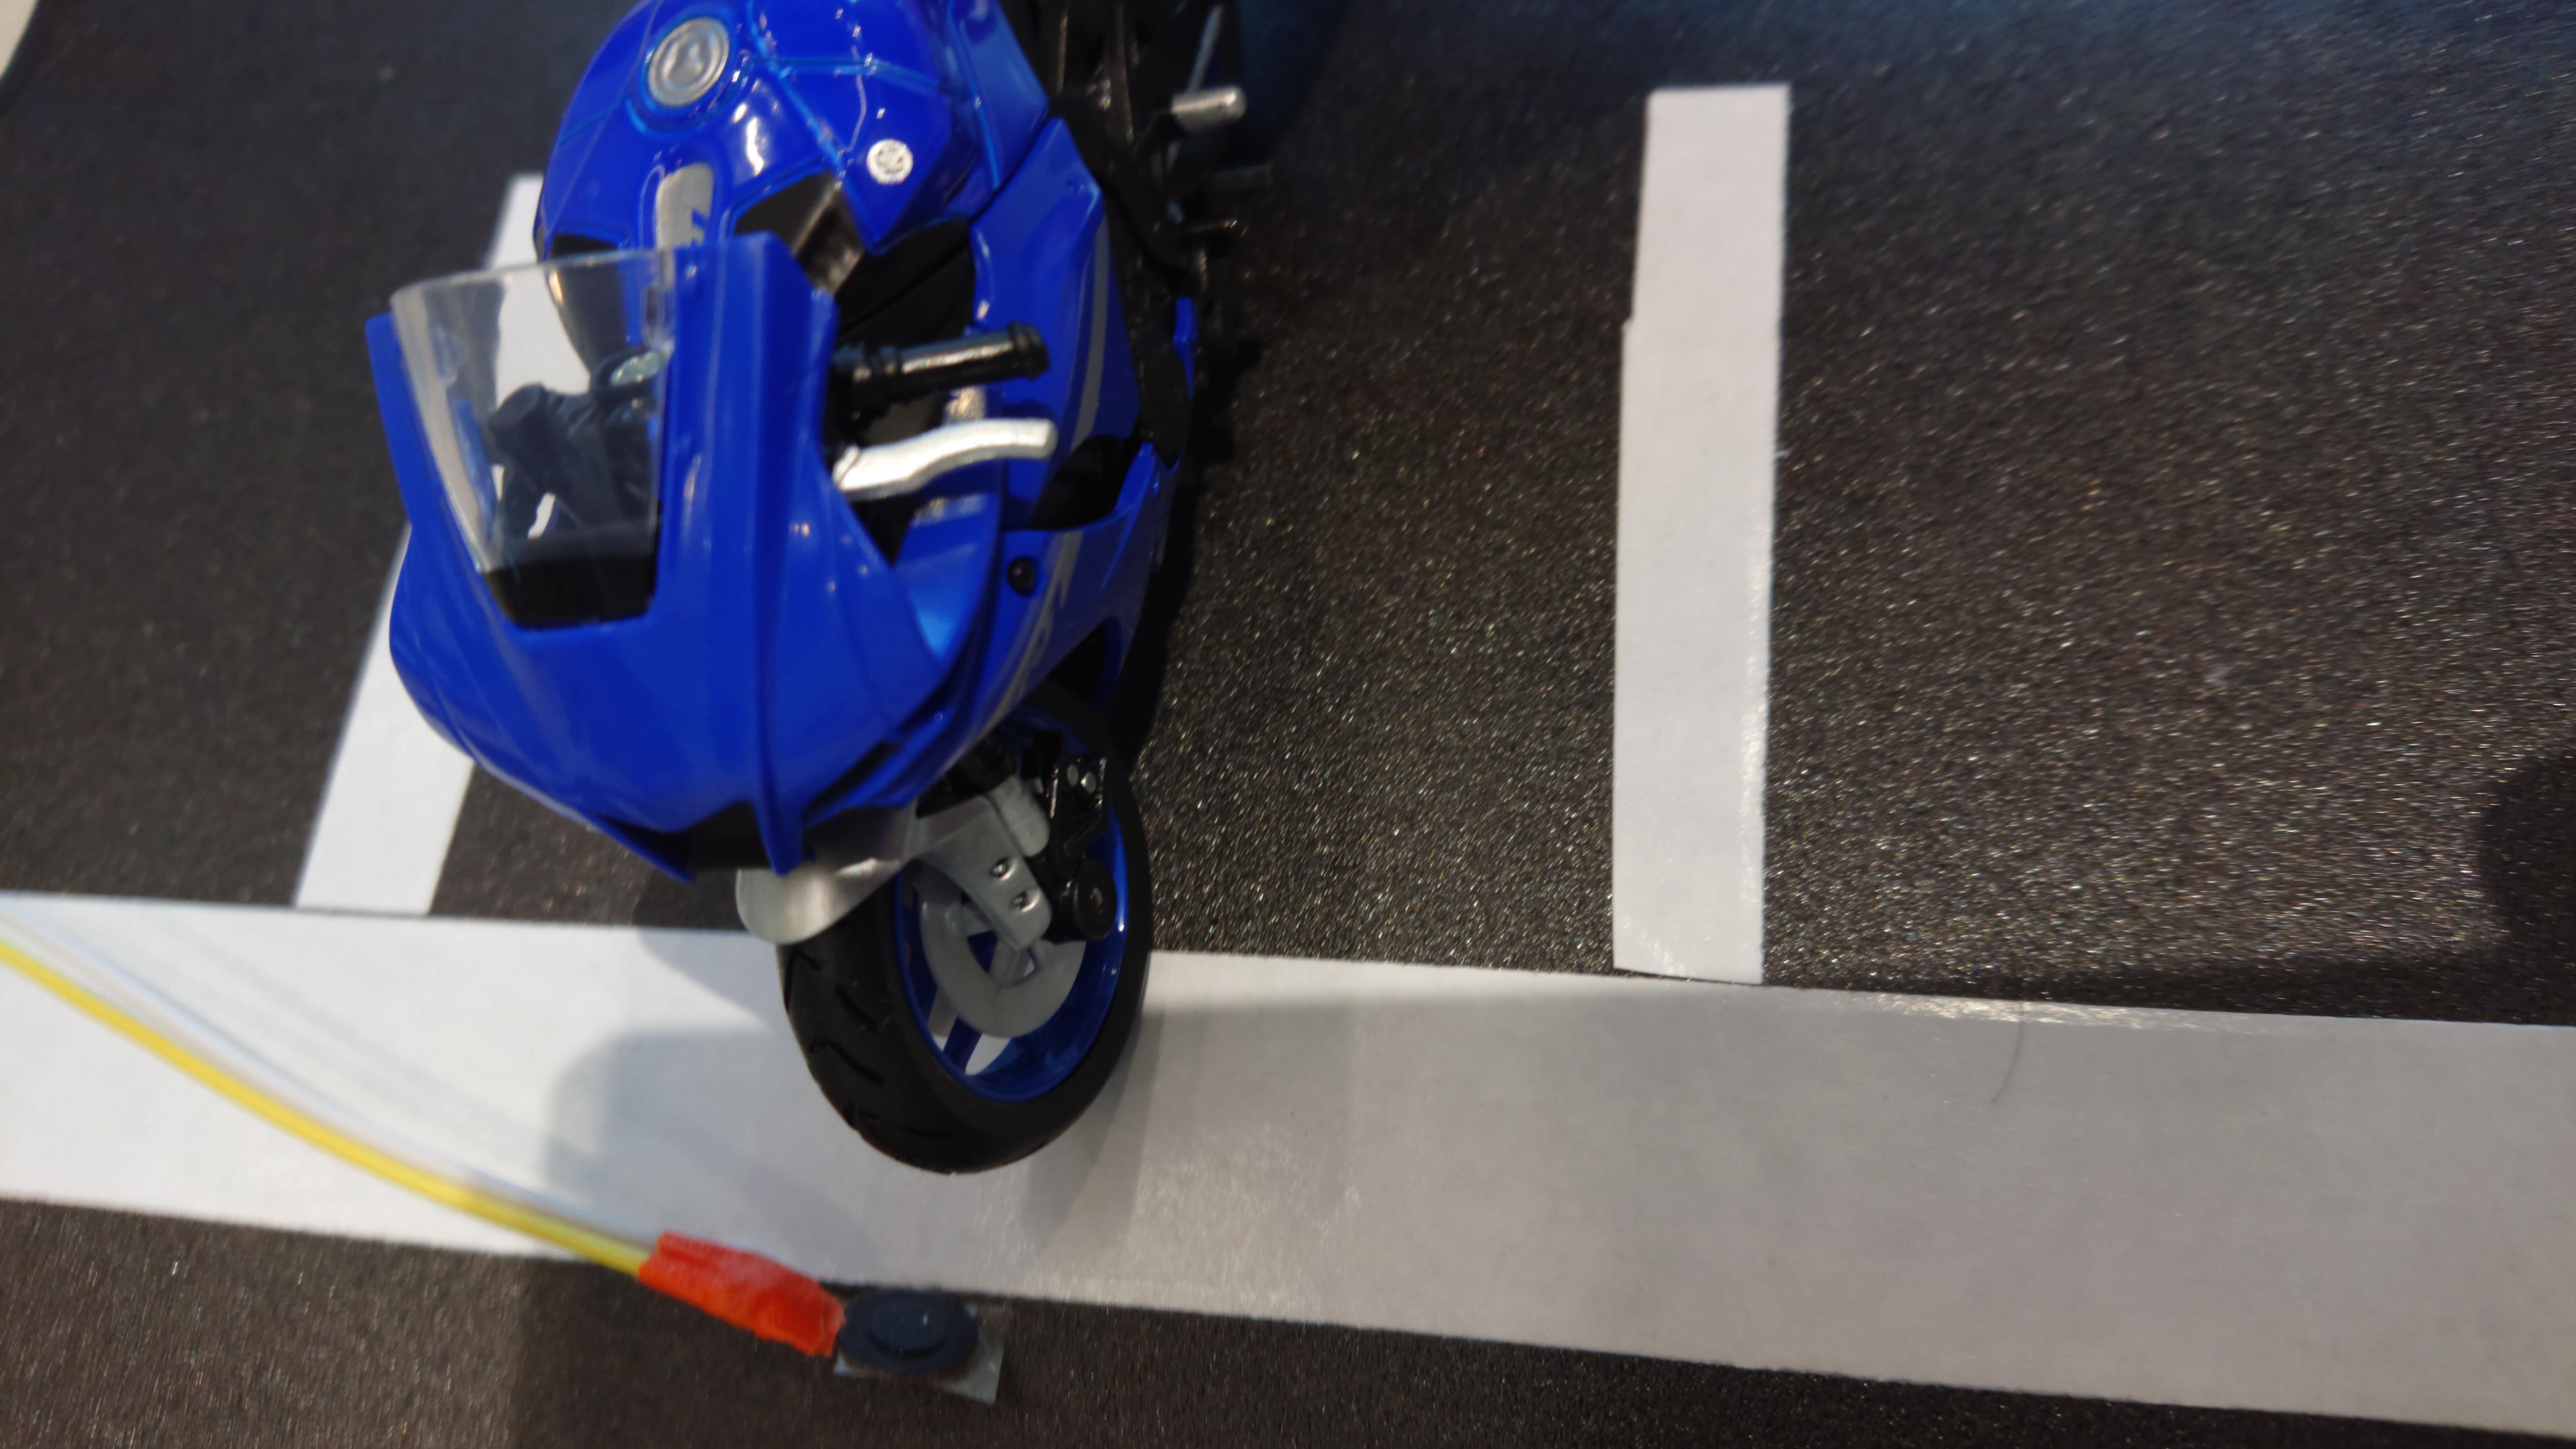Motorcycle: (382, 0, 1290, 1194)
